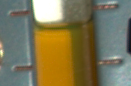border: (94, 57, 127, 68), (91, 3, 120, 12), (5, 9, 32, 18), (10, 64, 36, 73)
liquidlevel: (32, 16, 96, 38)
